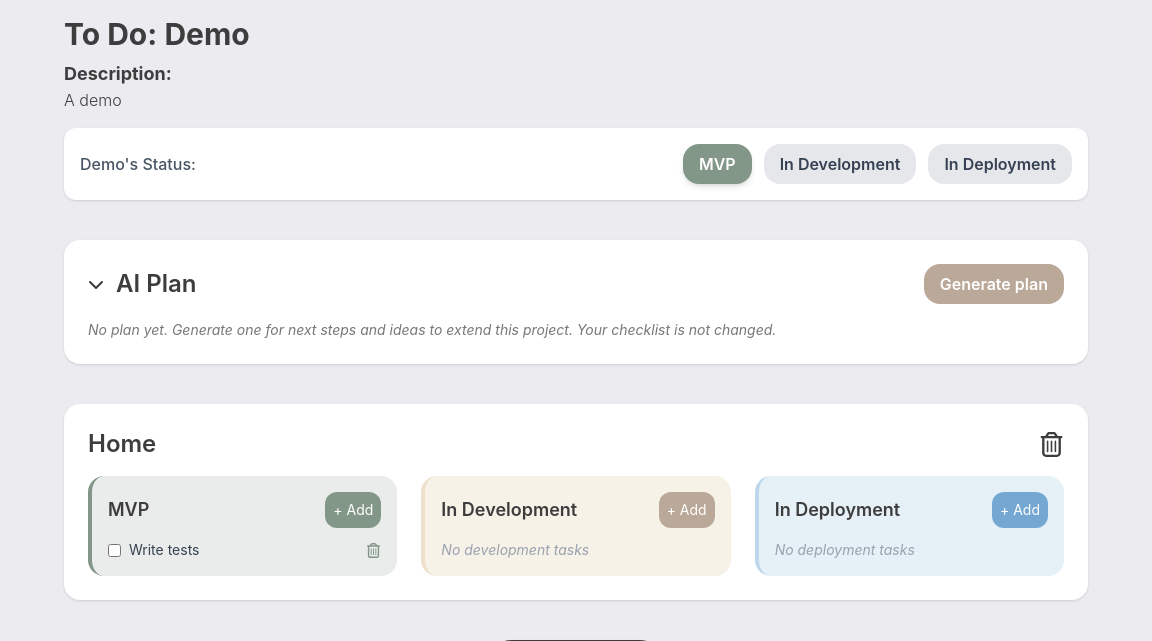
Test: ProjectDetail › adding a task posts to the section and shows the new task
Expected: the text "Write tests" is shown, [129,540,200,560]
Click the 1st button "+ Add". click: {"x": 353, "y": 510}
box: [325,492,381,528]
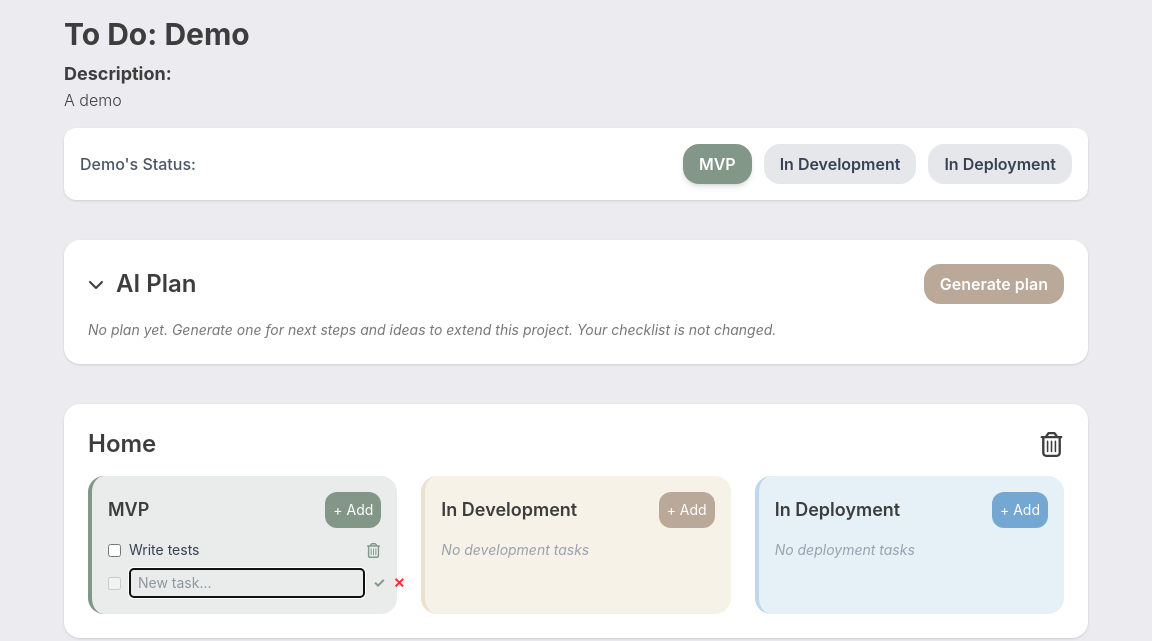
Type "Ship it" into the field with placeholder "New task...". click: {"x": 247, "y": 583}
box: [129,568,365,598]
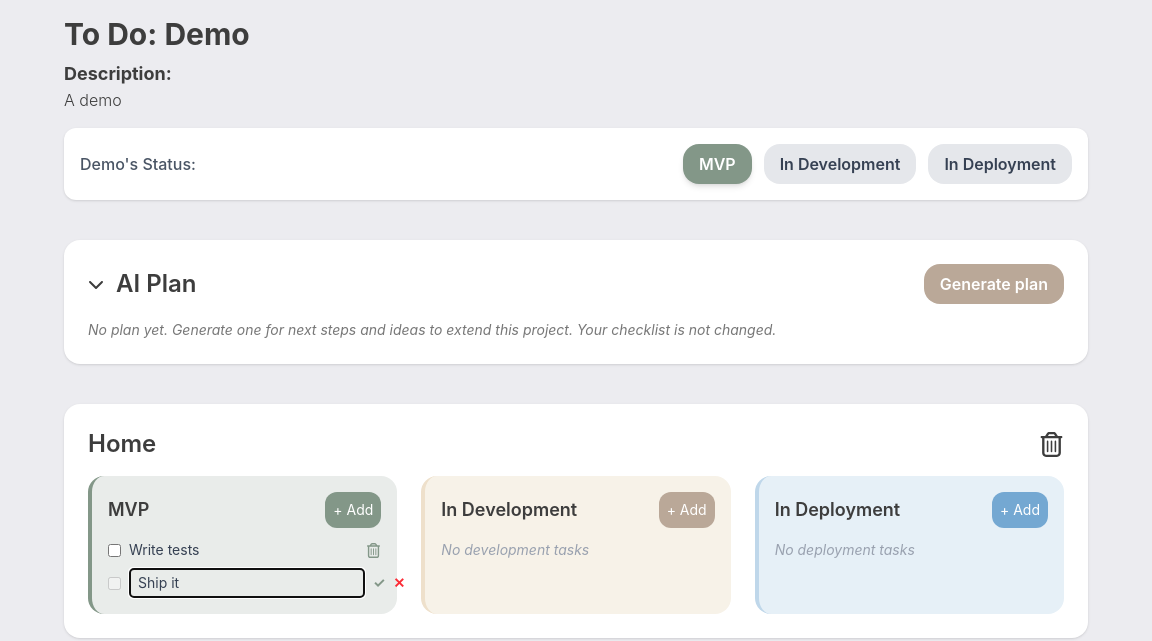
Click the button "✓". click: {"x": 379, "y": 583}
box: [373,573,385,593]
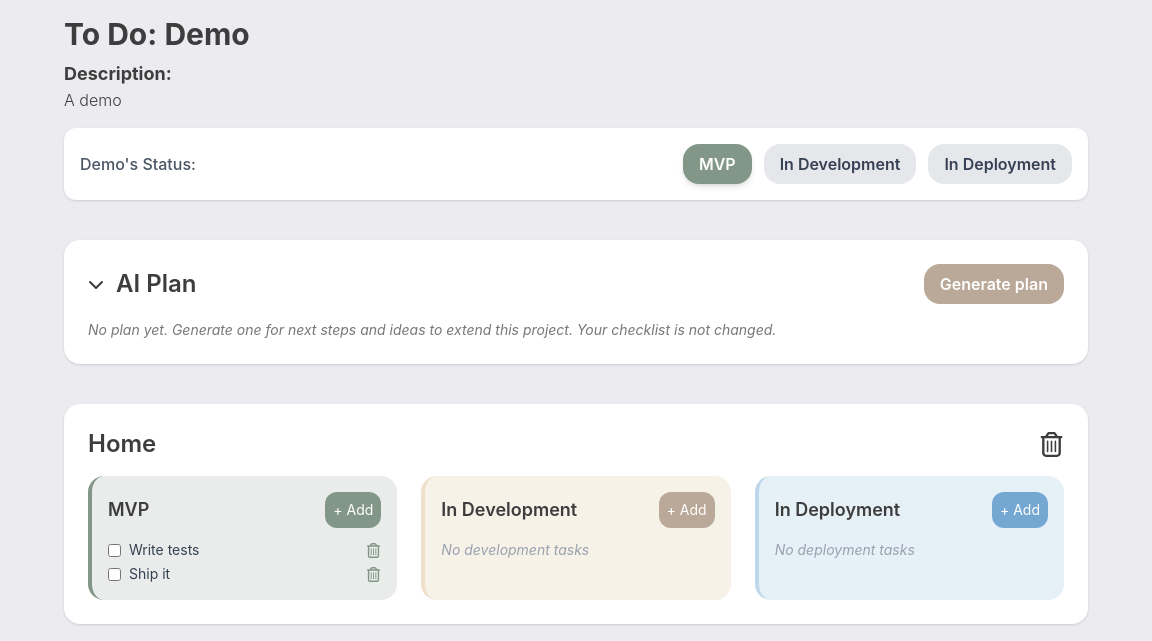
Expected: the field with placeholder "New task..." is not shown
Now the text "Ship it" is shown, box [129,564,170,584]
